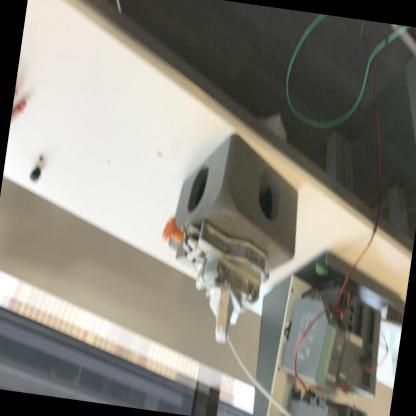CornerCasting: (166, 121, 312, 272)
Twistlock: (143, 212, 281, 356)
